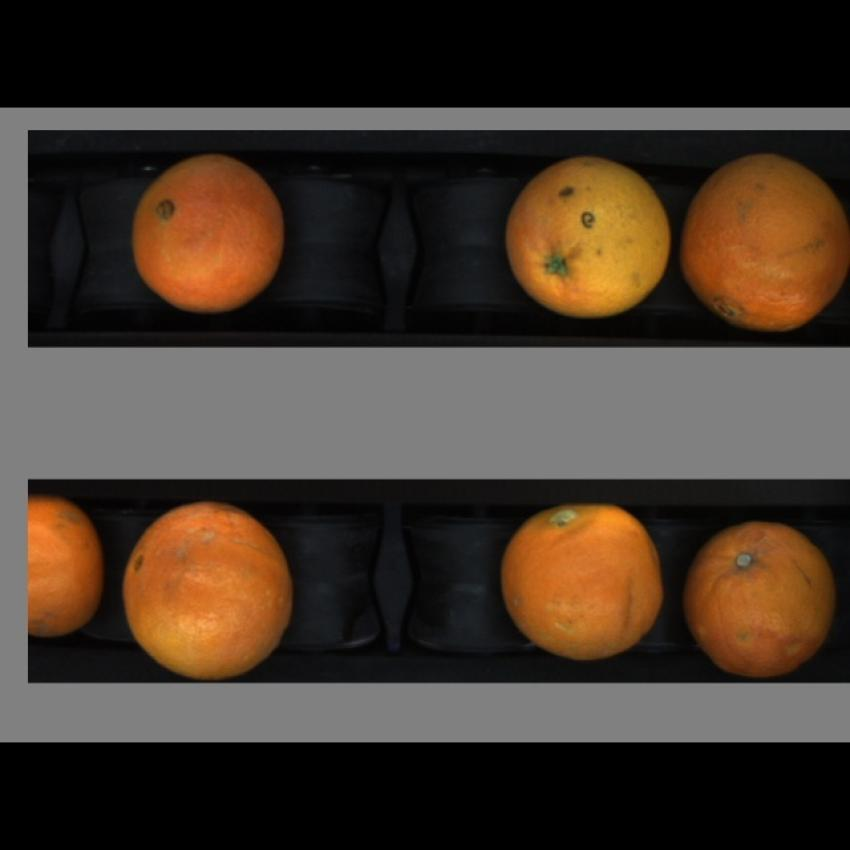Mal estado: (121, 500, 296, 682), (500, 147, 668, 326), (679, 152, 848, 327), (126, 149, 294, 316), (495, 505, 669, 658), (686, 516, 840, 678), (28, 496, 100, 641)
